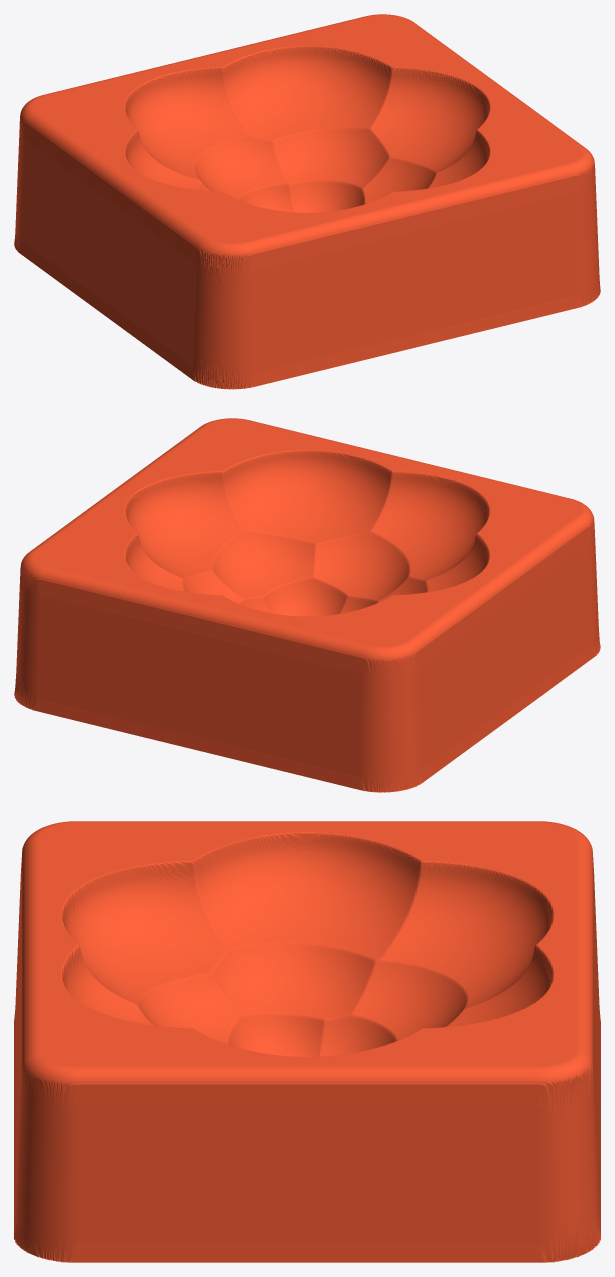
The model's file is mold.glb.
3 views of the same model, one above another, from view 1: azimuth 30°, elevation 25°; view 2: azimuth 150°, elevation 25°; view 3: azimuth 270°, elevation 25° (orthographic). The views are drawn at different scales.
Visible parts, largest first — view 1: geometry_0; view 2: geometry_0; view 3: geometry_0.
Part boxes in pixels (<box>): geometry_0: <box>14,14,600,389</box>; geometry_0: <box>14,418,600,792</box>; geometry_0: <box>14,821,600,1262</box>.
Size of the model in its own units: 0.0904 by 0.0296 by 0.0848.
